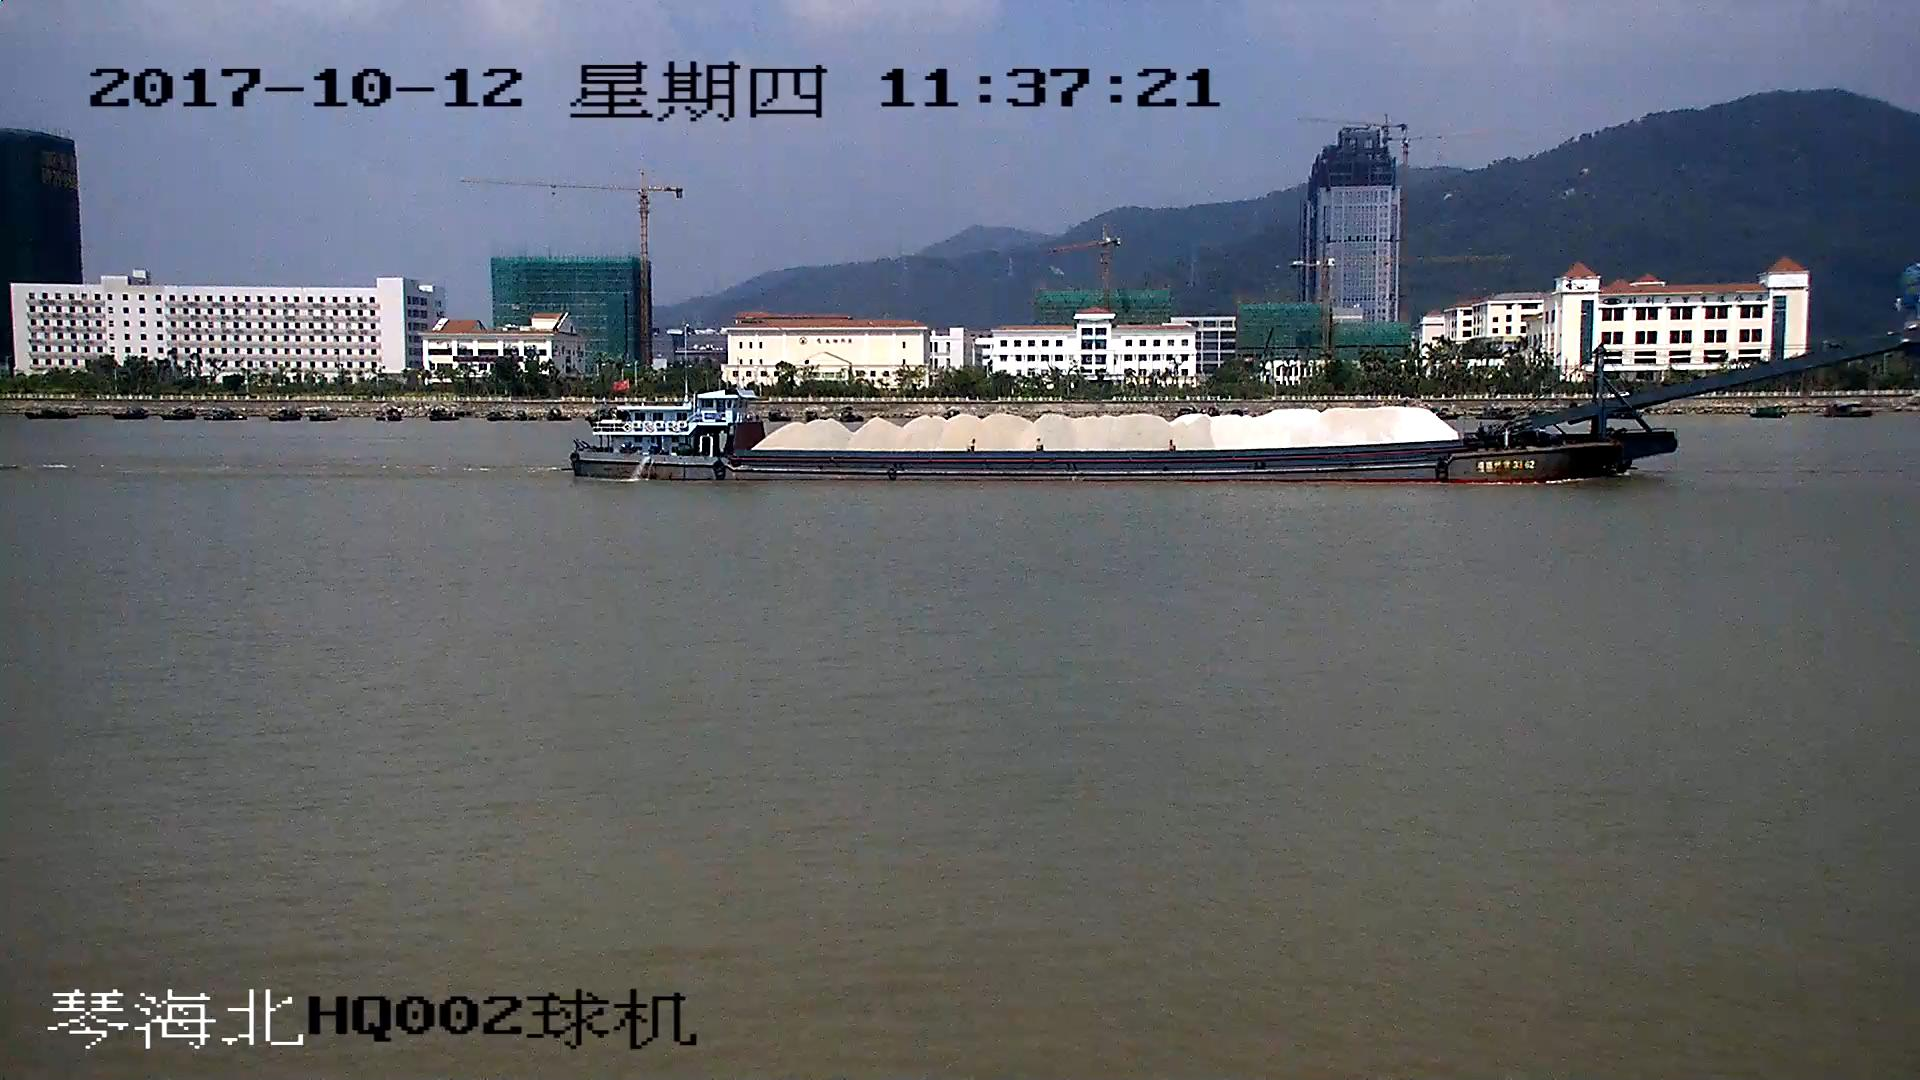ore carrier: (576, 326, 1920, 485)
